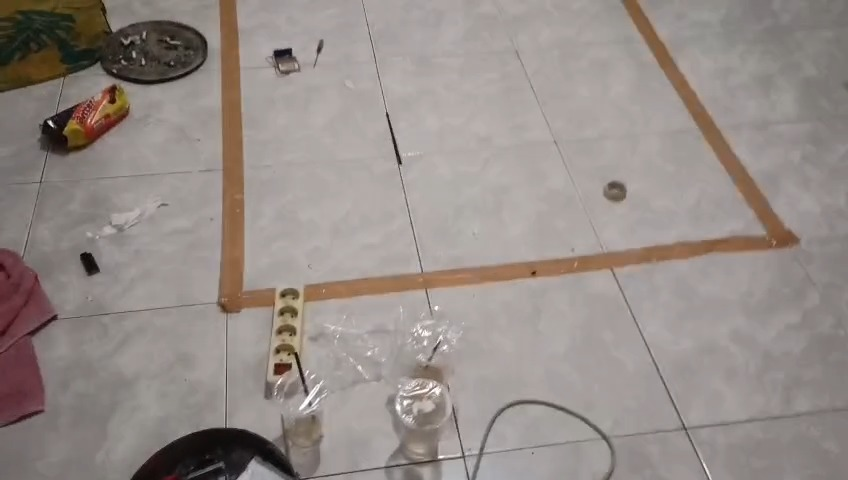floor marking: (307, 0, 799, 299), (218, 0, 275, 312)
